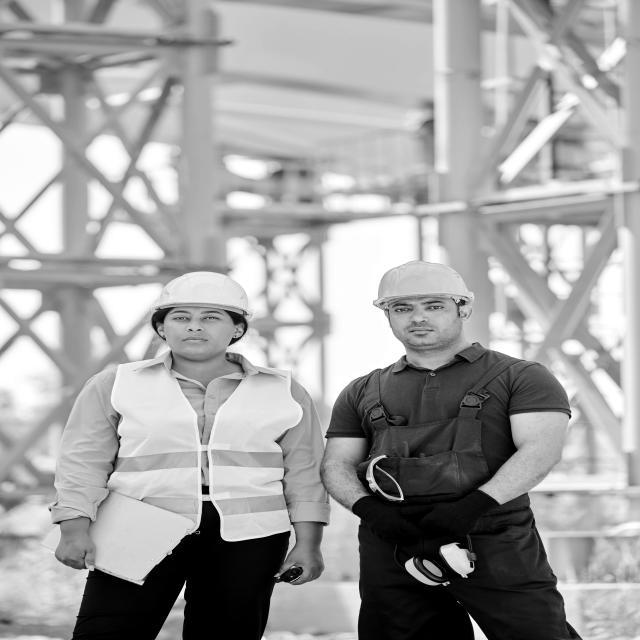No-Vest: (347, 350, 525, 517)
Vest: (112, 358, 300, 549)
